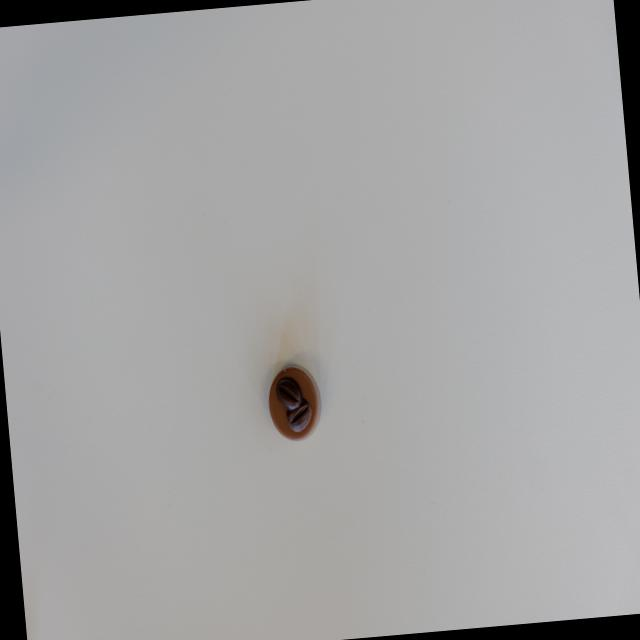Arabia: (265, 362, 323, 445)
